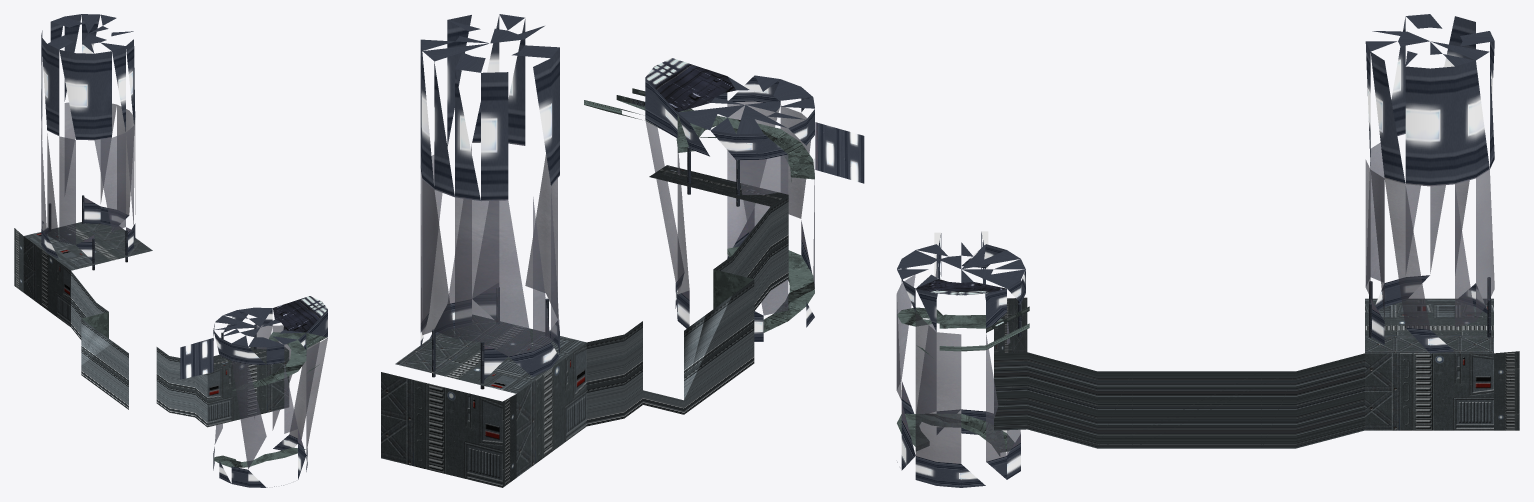
The model's file is bldg_lab_tunnels2.gltf.
3 renders of one model, left to right at view 1: azimuth 30°, elevation 25°; view 2: azimuth 150°, elevation 25°; view 3: azimuth 270°, elevation 25°, orthographic. The views are drawn at different scales.
Parts seen in each view (by area): view 1: cube157, tube4, tube6, spiral_ramp2, floorbottom1, spiral_ramp1; view 2: cube157, tube4, tube6, spiral_ramp2, floorbottom1, spiral_ramp1; view 3: cube157, tube4, tube6, spiral_ramp1, spiral_ramp2.
Part boxes in pixels (x1,y1,x2,y2): cube157: [14, 222, 289, 427]; tube4: [41, 14, 135, 260]; tube6: [213, 296, 327, 487]; spiral_ramp2: [232, 332, 326, 390]; floorbottom1: [180, 338, 319, 379]; spiral_ramp1: [213, 447, 305, 467]; cube157: [381, 165, 788, 487]; tube4: [420, 14, 559, 379]; tube6: [645, 58, 814, 341]; spiral_ramp2: [584, 88, 814, 181]; floorbottom1: [700, 122, 864, 183]; spiral_ramp1: [727, 246, 814, 332]; cube157: [994, 297, 1519, 448]; tube4: [1365, 14, 1494, 353]; tube6: [896, 242, 1025, 487]; spiral_ramp1: [897, 413, 1014, 455]; spiral_ramp2: [897, 306, 1029, 351].
Bounding box in the file's own units: 21.74 × 39.83 × 53.08.
Materials: 12 (12 with a texture image).
